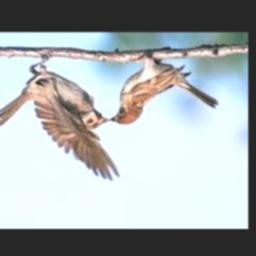Sparrow: (0, 56, 120, 180), (111, 53, 219, 125)
